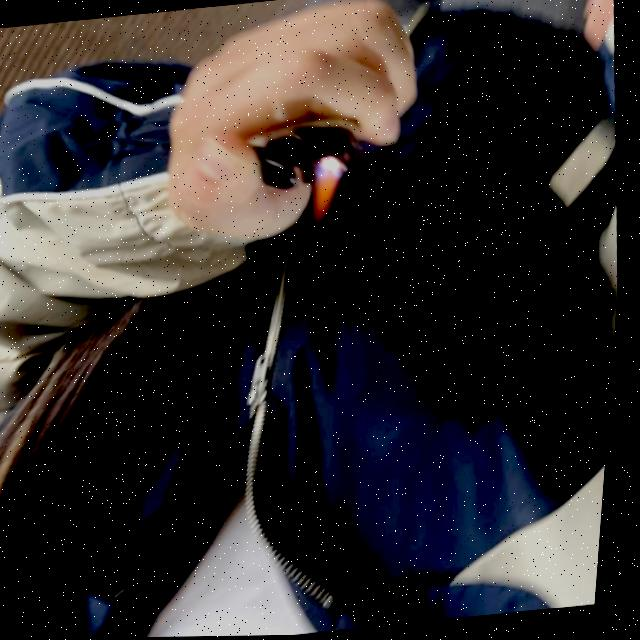Fire: (308, 152, 353, 233)
